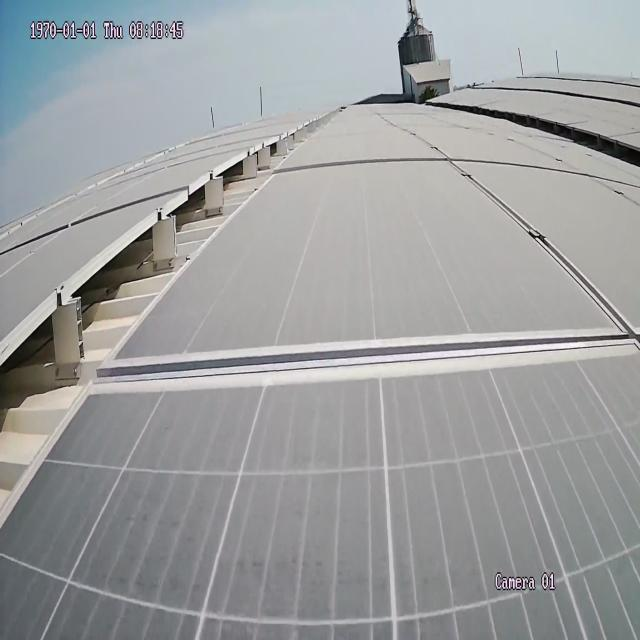interior panel: (429, 151, 628, 323), (128, 326, 617, 391)
outher panel: (3, 110, 333, 520), (467, 107, 638, 167)
